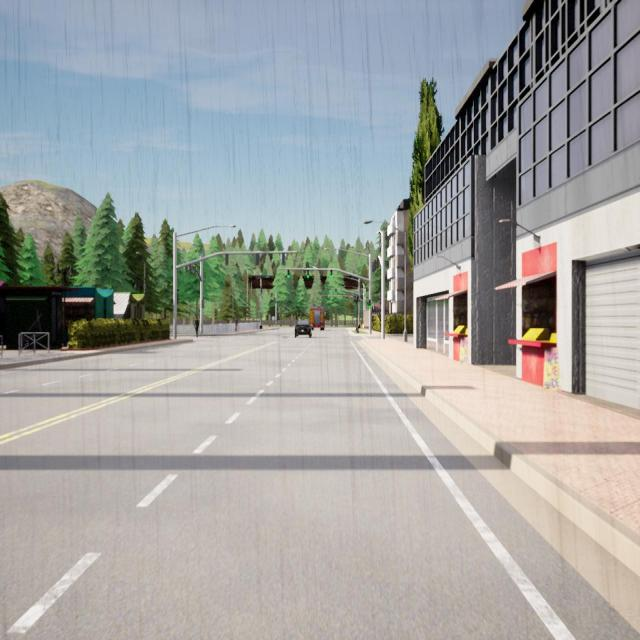Pedestrian: (195, 317, 199, 338), (235, 318, 238, 332)
Traffic_Signs: (271, 316, 275, 320)
Vehicle: (310, 306, 326, 331), (294, 320, 312, 338)
traffic_light: (306, 269, 310, 279), (256, 253, 259, 265), (282, 253, 285, 265), (368, 300, 372, 308), (287, 268, 290, 278), (330, 269, 333, 279), (226, 254, 228, 265), (374, 259, 376, 270), (372, 262, 374, 272), (376, 258, 378, 268), (190, 264, 192, 274), (185, 266, 188, 272), (202, 299, 204, 308), (325, 296, 328, 302), (334, 296, 337, 302), (195, 266, 197, 275), (335, 288, 337, 294), (346, 297, 348, 302)
